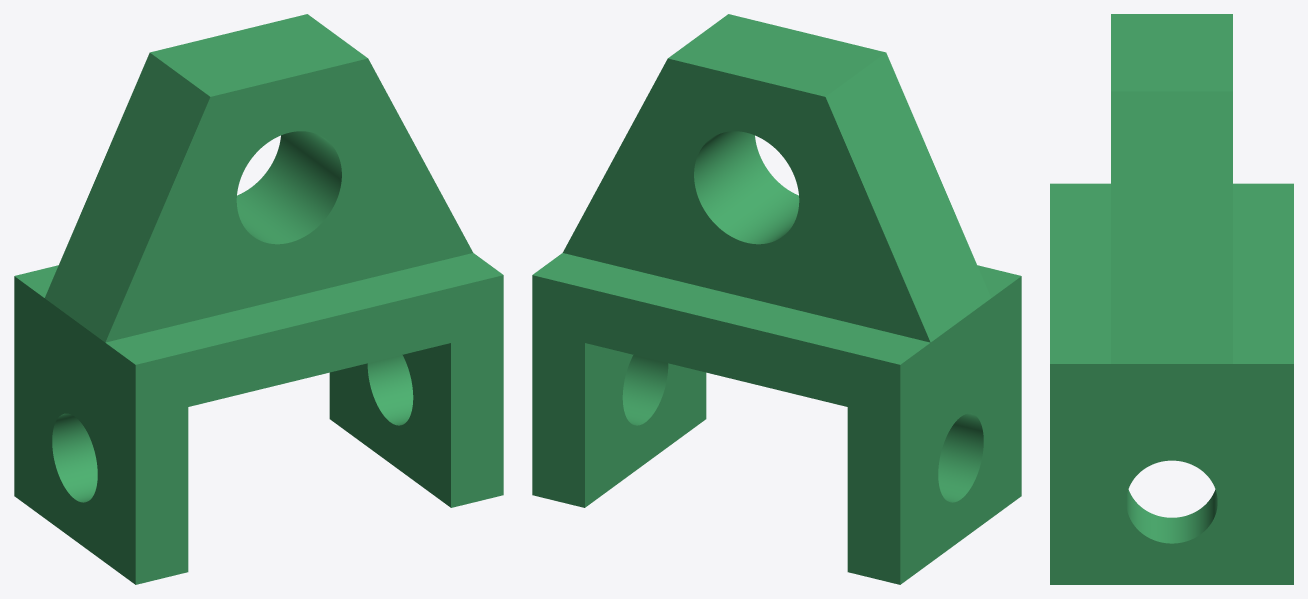
3 renders of one model, left to right at view 1: azimuth 30°, elevation 25°; view 2: azimuth 150°, elevation 25°; view 3: azimuth 270°, elevation 25°, orthographic.
Parts seen in each view (by area): view 1: 26.001; view 2: 26.001; view 3: 26.001.
Boxes of the visible parts, x1,y1,x2,y2 form: 26.001: [14, 14, 503, 584]; 26.001: [532, 14, 1021, 584]; 26.001: [1050, 14, 1293, 584].
Size of the model in its own units: 70 by 80 by 40.
